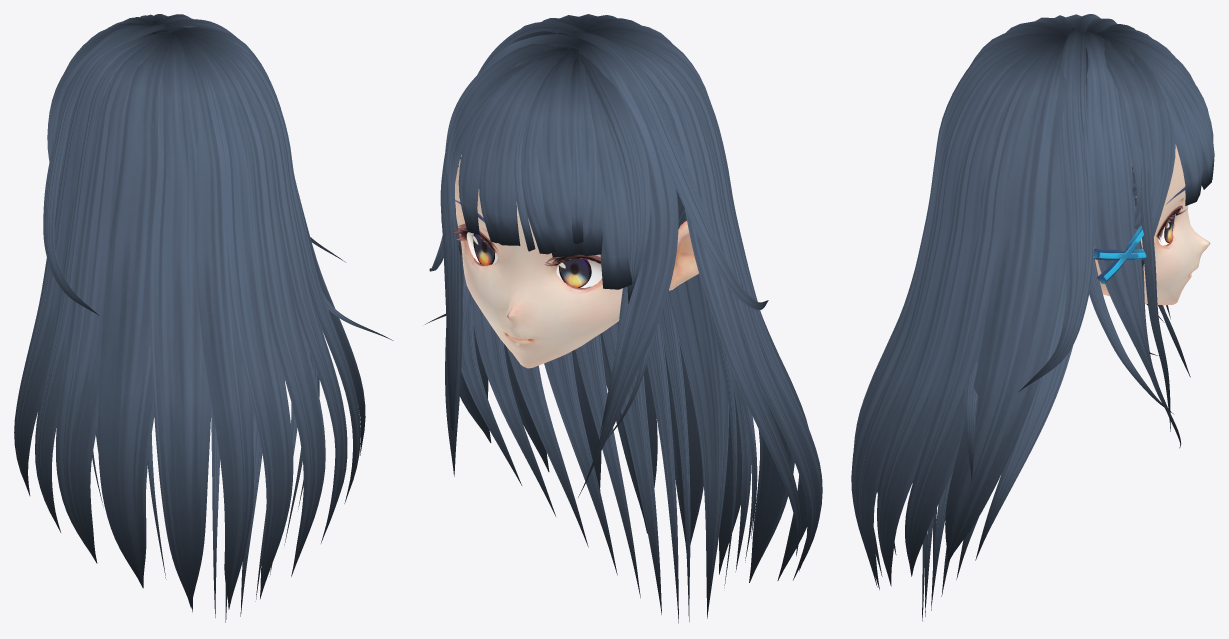
File: sendagaya_shino.glb
The picture shows the model from 3 angles, left to right: view 1: azimuth 30°, elevation 25°; view 2: azimuth 150°, elevation 25°; view 3: azimuth 270°, elevation 25°; orthographic projection. The views are drawn at different scales.
Visible parts, largest first — view 1: Hair_Hair001; view 2: Hair_Hair001, Facebaked; view 3: Hair_Hair001, Facebaked.
Part boxes in pixels (x1,y1,x2,y2): Hair_Hair001: (14,14,393,622); Hair_Hair001: (425,14,822,623); Facebaked: (452,154,698,368); Hair_Hair001: (851,14,1214,621); Facebaked: (1094,144,1210,305).
Size of the model in its own units: 0.3766 by 0.5702 by 0.313.
12 materials, 12 textured.
